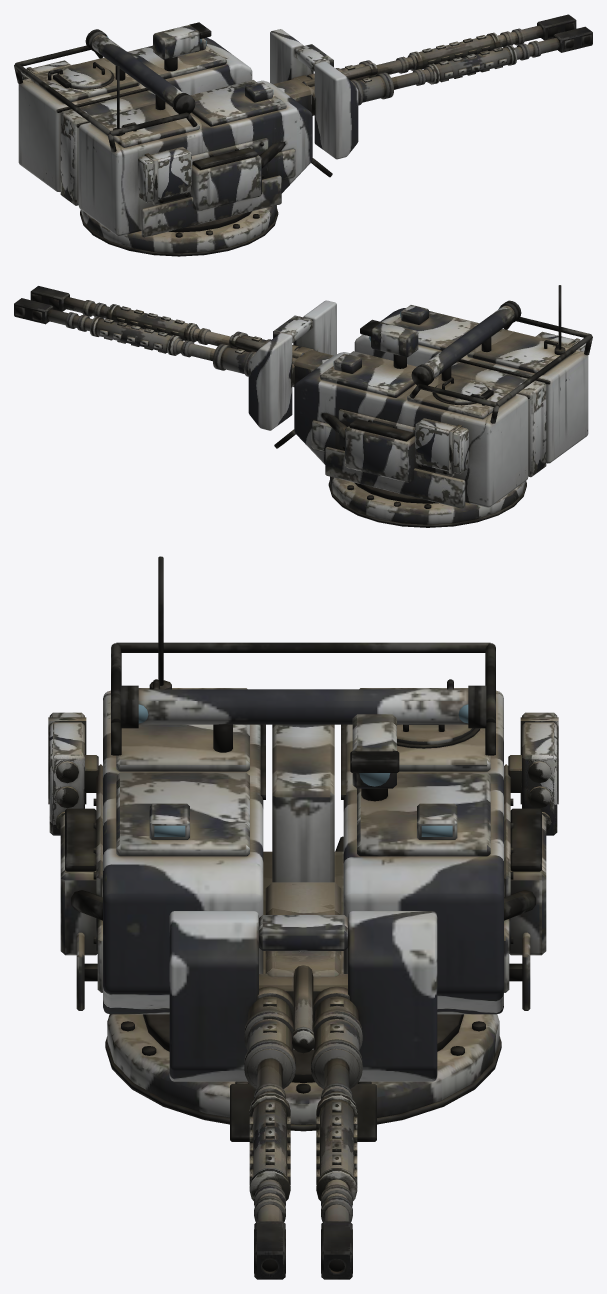
Rendered from turret_kit_t3_arctic_tiger.glb.
3 views of the same model, one above another, from view 1: azimuth 30°, elevation 25°; view 2: azimuth 150°, elevation 25°; view 3: azimuth 270°, elevation 25° (orthographic). The views are drawn at different scales.
Parts seen in each view (by area): view 1: turret_twin_t3, guns, pods; view 2: turret_twin_t3, guns, pods; view 3: turret_twin_t3, guns, pods.
Boxes of the visible parts, left/top/right/bottom form: turret_twin_t3: left=14, top=22, right=358, bottom=256; guns: left=273, top=14, right=592, bottom=115; pods: left=21, top=60, right=191, bottom=202; turret_twin_t3: left=248, top=285, right=592, bottom=527; guns: left=14, top=286, right=333, bottom=387; pods: left=415, top=331, right=586, bottom=474; turret_twin_t3: left=60, top=556, right=546, bottom=1141; guns: left=244, top=882, right=362, bottom=1279; pods: left=48, top=712, right=558, bottom=835.
Size of the model in its own units: 2.7 by 0.98 by 1.15.
Materials: 4 (3 with a texture image).
